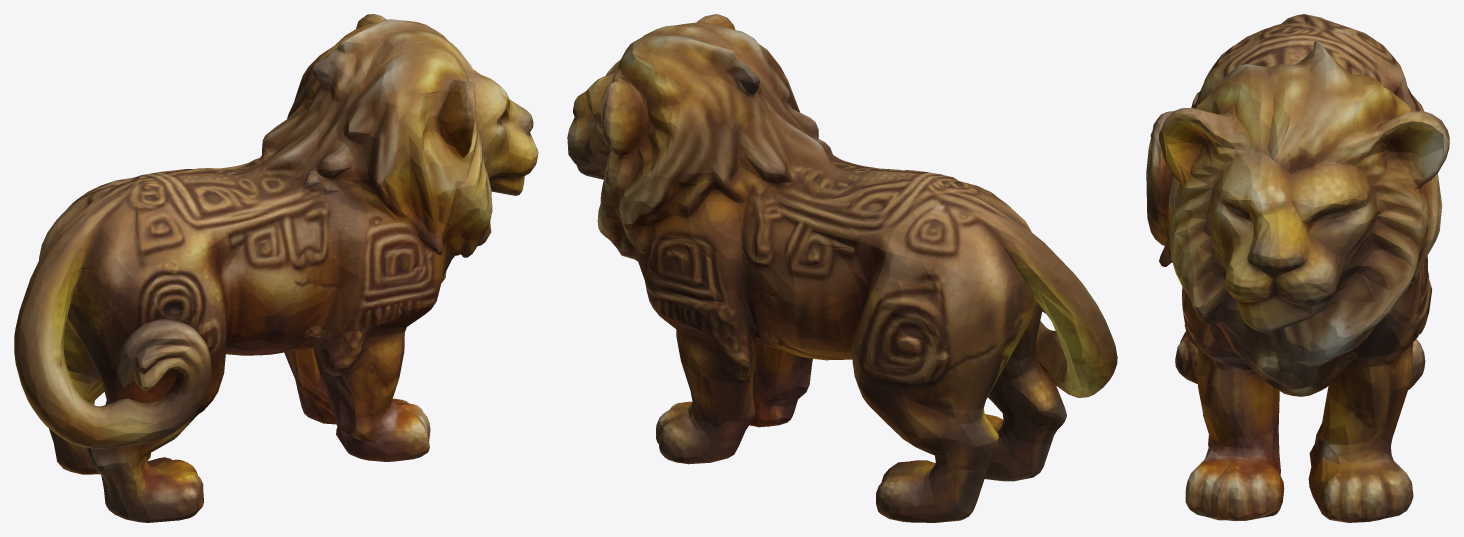
File: mirageCat.glb
The picture shows the model from 3 angles, left to right: view 1: azimuth 30°, elevation 25°; view 2: azimuth 150°, elevation 25°; view 3: azimuth 270°, elevation 25°; orthographic projection. The views are drawn at different scales.
Visible parts, largest first — view 1: world; view 2: world; view 3: world.
Part boxes in pixels (left/top/right/bottom): world: left=14, top=14, right=538, bottom=522; world: left=567, top=14, right=1117, bottom=522; world: left=1146, top=14, right=1449, bottom=522.
Bounding box in the file's own units: 0.9993 × 0.7197 × 0.4275.
1 material, 1 textured.
